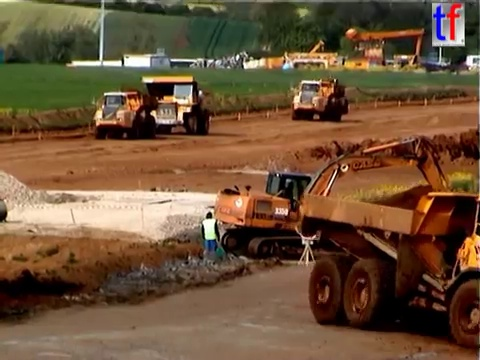excavator: (211, 134, 472, 265), (342, 24, 427, 73)
truck: (299, 189, 480, 349), (135, 73, 216, 137), (91, 89, 160, 141), (287, 75, 350, 123)
worker: (199, 209, 225, 264), (1, 194, 11, 224)
